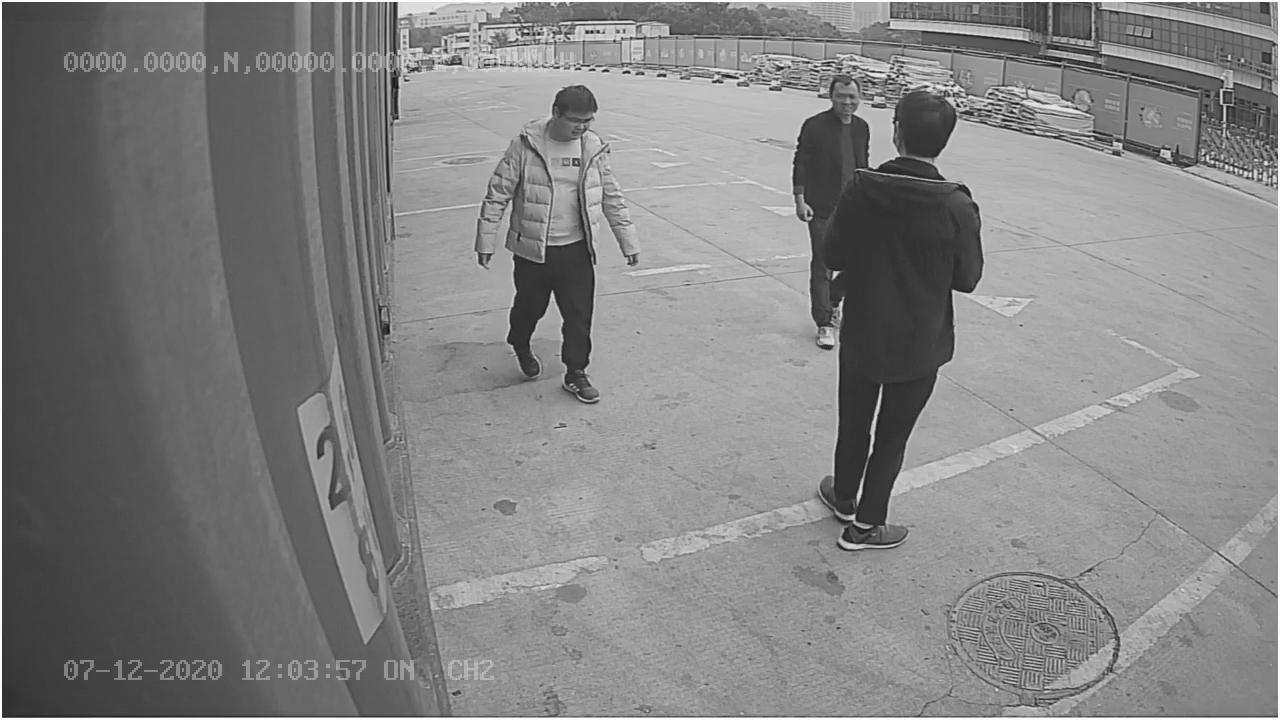person: (477, 80, 643, 401)
